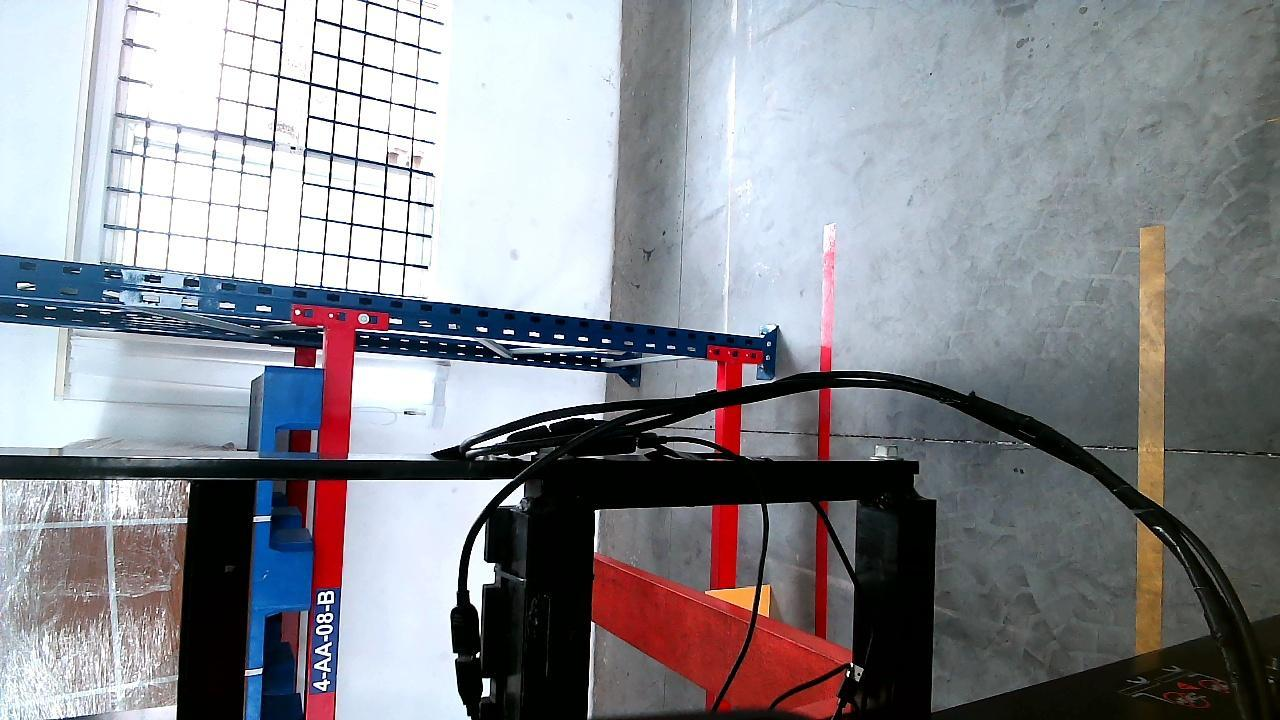red_line: (813, 224, 839, 640)
yellow_line: (1137, 211, 1169, 651)
